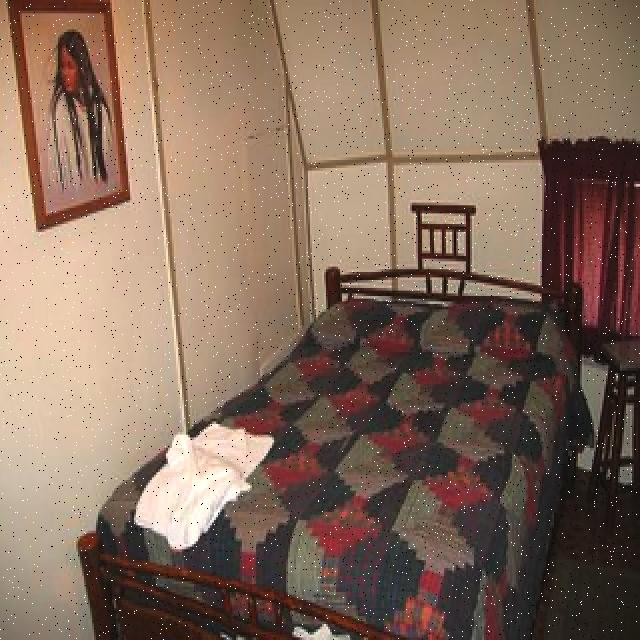bed: (84, 255, 588, 640)
